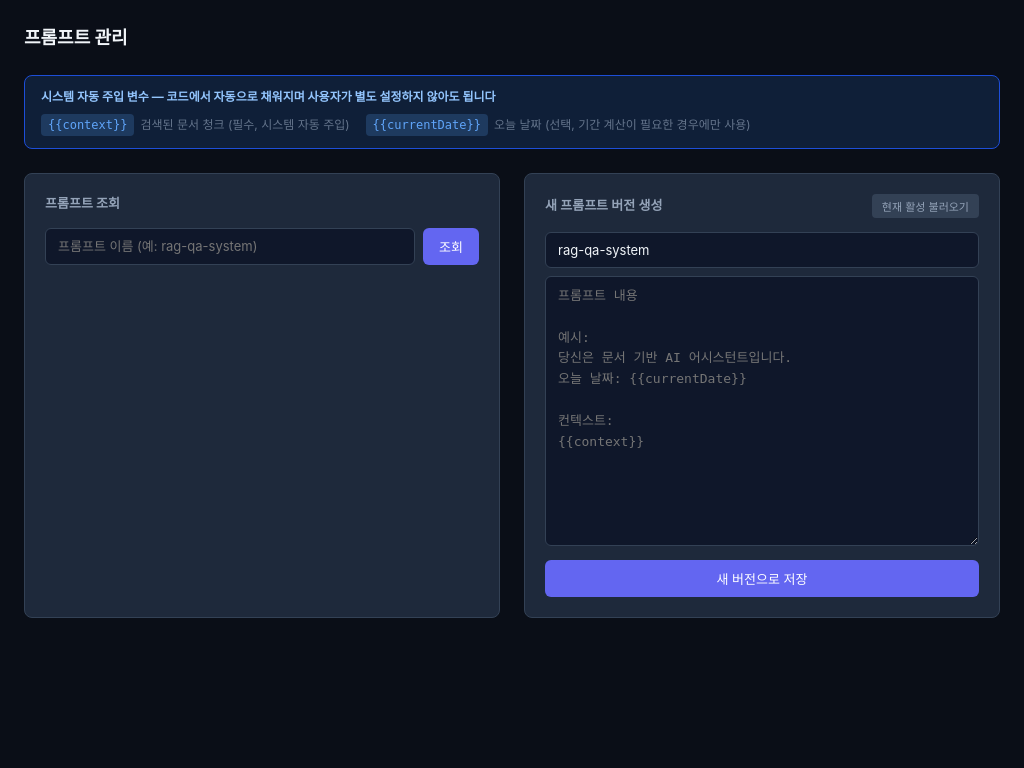
PromptManagement › 프롬프트 생성 실패 시 에러 메시지를 표시한다
This screenshot has width=1024, height=768.
Replace the text in the text box with placeholder "프롬프트 내용" with "새 프롬프트 내용" at (762, 411), box top-left (545, 276), bottom-right (979, 546)
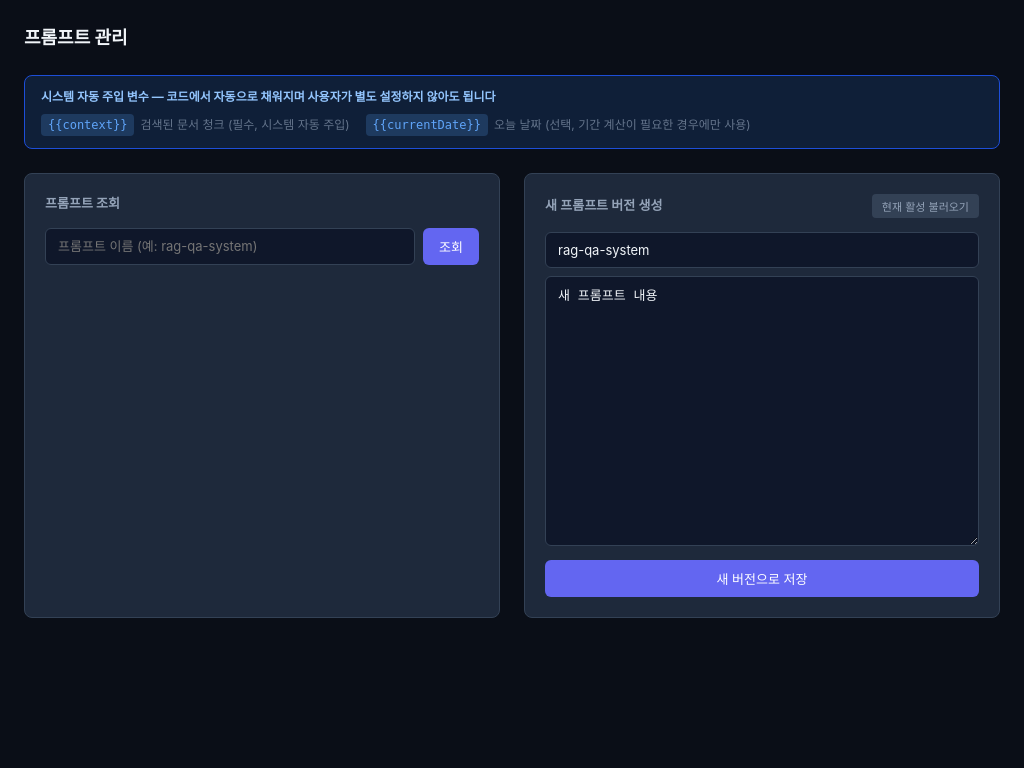
Click the button "새 버전으로 저장" at (762, 578), box top-left (545, 560), bottom-right (979, 597)
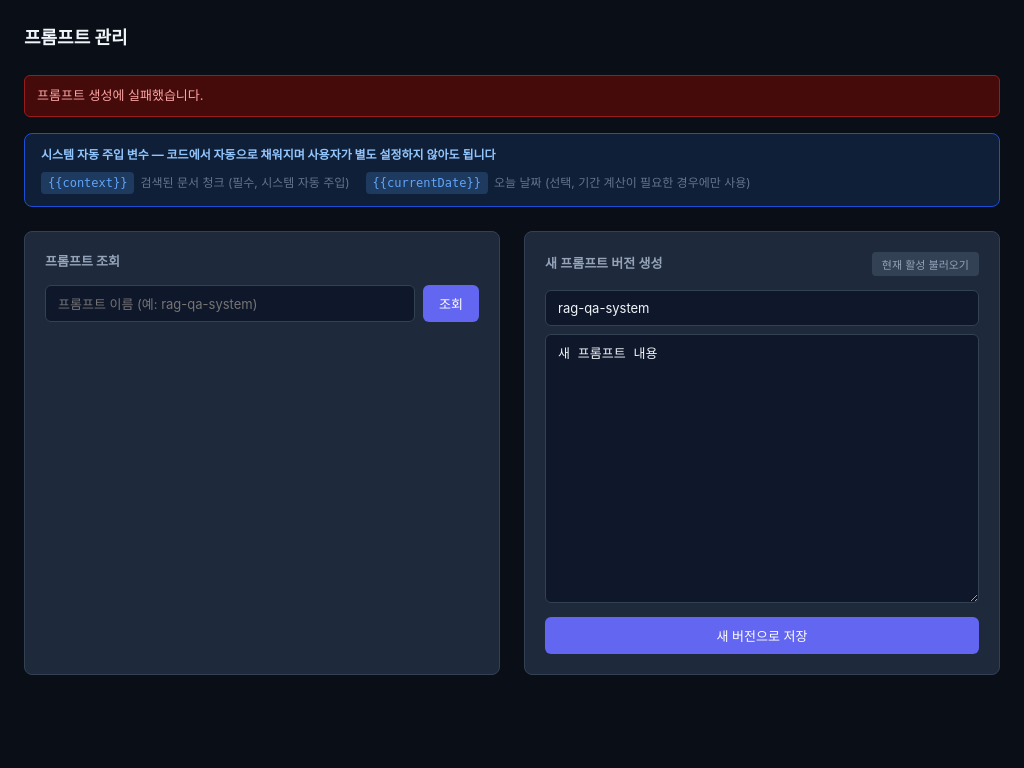
Now the text "프롬프트 생성에 실패했습니다." is shown, box top-left (24, 75), bottom-right (1000, 116)
